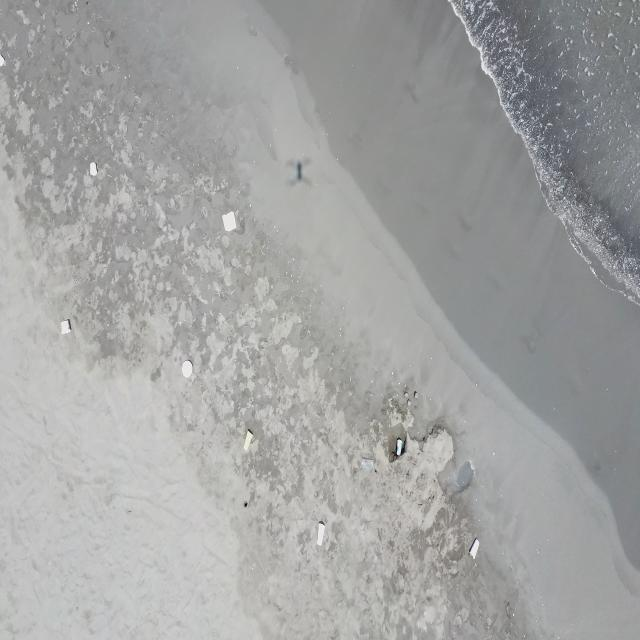take-away-containers: (222, 210, 237, 232), (182, 359, 193, 378), (61, 319, 72, 336), (90, 162, 98, 178)
takeaway-cup: (243, 428, 254, 452), (469, 536, 480, 560), (316, 522, 326, 548), (362, 458, 374, 470), (397, 438, 402, 458)
